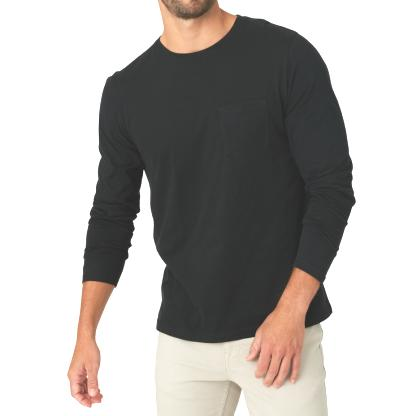dress: (81, 8, 366, 351)
